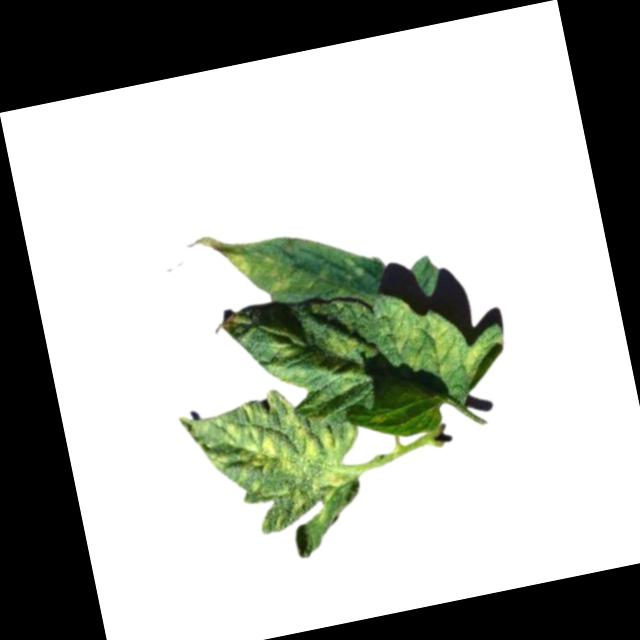Leaf_Mold: (176, 375, 376, 547), (385, 278, 509, 391), (190, 220, 304, 310)
